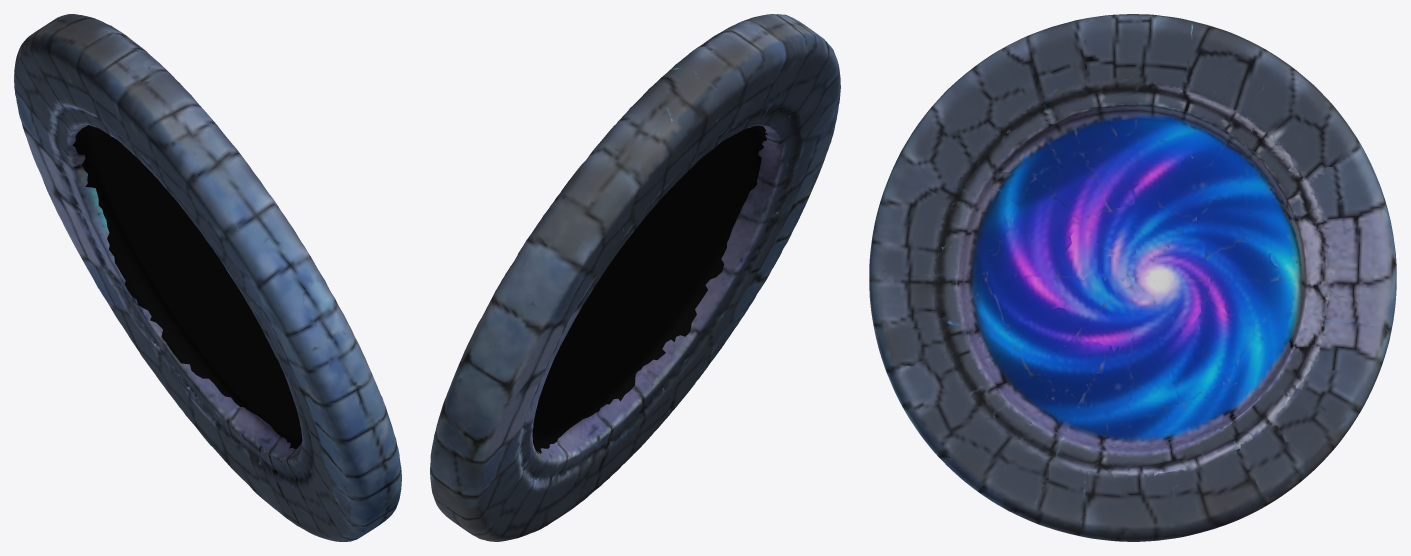
The model's file is 15_portal_ativado_3d.obj.
3 views of the same model, side by side, from view 1: azimuth 30°, elevation 25°; view 2: azimuth 150°, elevation 25°; view 3: azimuth 270°, elevation 25° (orthographic). The views are drawn at different scales.
Visible parts, largest first — view 1: portal_Material_0, portal_Materiais; view 2: portal_Material_0, portal_Materiais; view 3: portal_Material_0.
Boxes of the visible parts, bbox=[...] form: portal_Material_0: bbox=[14, 14, 401, 541]; portal_Materiais: bbox=[72, 125, 302, 448]; portal_Material_0: bbox=[430, 14, 840, 541]; portal_Materiais: bbox=[532, 125, 767, 453]; portal_Material_0: bbox=[869, 14, 1396, 541].
Size of the model in its own units: 0.9286 by 1.89 by 2.
Materials: 2 (2 with a texture image).
